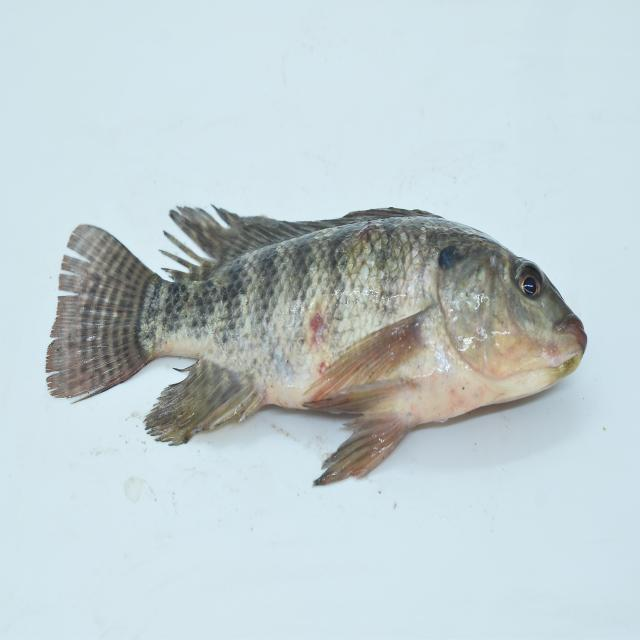Columnaris Disease: (40, 186, 592, 494)
